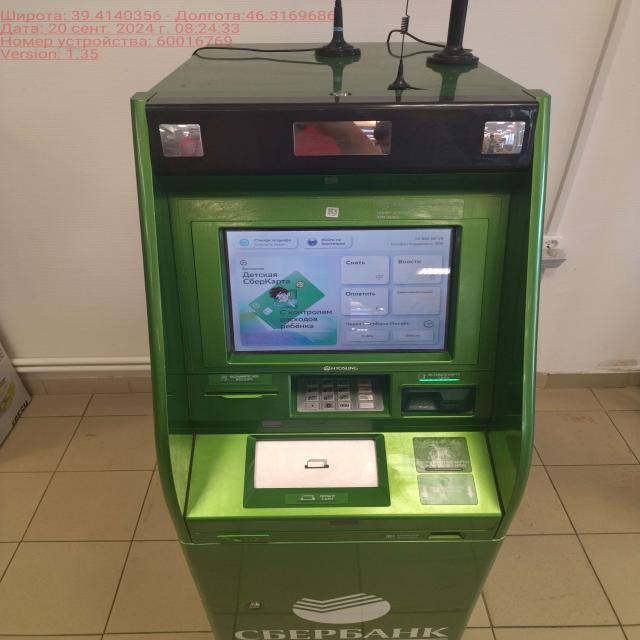bank: (132, 41, 553, 640)
